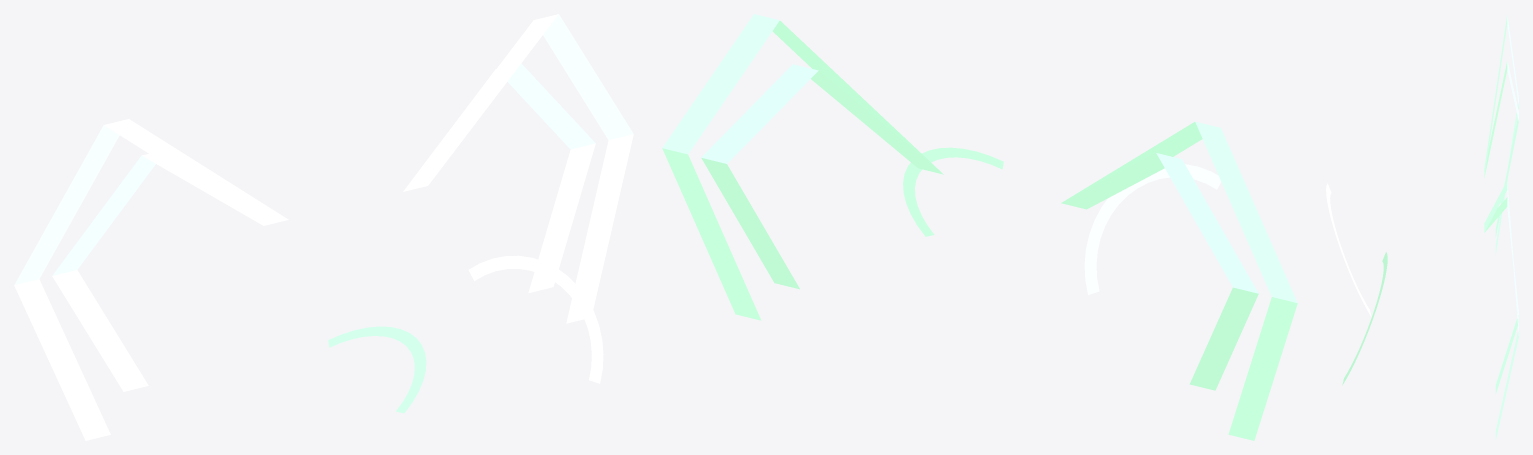
The model's file is KAIA_ASCENDED.glb.
3 renders of one model, left to right at view 1: azimuth 30°, elevation 25°; view 2: azimuth 150°, elevation 25°; view 3: azimuth 270°, elevation 25°, orthographic. The views are drawn at different scales.
Parts seen in each view (by area): view 1: ANI08C_kaia-windrow_2_pressure_airfoil_L1, ANI08C_kaia-windrow_2_pressure_airfoil_R1, ANI08C_kaia-windrow_2_pressure_airfoil_L0, ANI08C_kaia-windrow_2_pressure_airfoil_R0, ANI08C_kaia-windrow_2_pressure_crescent_R, ANI08C_kaia-windrow_2_pressure_crescent_L; view 2: ANI08C_kaia-windrow_2_pressure_airfoil_R1, ANI08C_kaia-windrow_2_pressure_airfoil_L1, ANI08C_kaia-windrow_2_pressure_airfoil_R0, ANI08C_kaia-windrow_2_pressure_airfoil_L0, ANI08C_kaia-windrow_2_pressure_crescent_L, ANI08C_kaia-windrow_2_pressure_crescent_R; view 3: ANI08C_kaia-windrow_2_pressure_airfoil_R1, ANI08C_kaia-windrow_2_pressure_airfoil_L1, ANI08C_kaia-windrow_2_pressure_airfoil_L0, ANI08C_kaia-windrow_2_pressure_airfoil_R0, ANI08C_kaia-windrow_2_pressure_crescent_R, ANI08C_kaia-windrow_2_pressure_crescent_L.
Boxes of the visible parts, <box> form: ANI08C_kaia-windrow_2_pressure_airfoil_L1: <box>14,119,288,440</box>; ANI08C_kaia-windrow_2_pressure_airfoil_R1: <box>403,14,633,323</box>; ANI08C_kaia-windrow_2_pressure_airfoil_L0: <box>52,154,259,391</box>; ANI08C_kaia-windrow_2_pressure_airfoil_R0: <box>421,63,595,292</box>; ANI08C_kaia-windrow_2_pressure_crescent_R: <box>468,255,603,383</box>; ANI08C_kaia-windrow_2_pressure_crescent_L: <box>328,326,426,413</box>; ANI08C_kaia-windrow_2_pressure_airfoil_R1: <box>662,14,943,320</box>; ANI08C_kaia-windrow_2_pressure_airfoil_L1: <box>1063,121,1297,440</box>; ANI08C_kaia-windrow_2_pressure_airfoil_R0: <box>701,64,943,289</box>; ANI08C_kaia-windrow_2_pressure_airfoil_L0: <box>1061,153,1258,390</box>; ANI08C_kaia-windrow_2_pressure_crescent_L: <box>1084,164,1221,294</box>; ANI08C_kaia-windrow_2_pressure_crescent_R: <box>903,147,1003,236</box>; ANI08C_kaia-windrow_2_pressure_airfoil_R1: <box>1484,181,1518,440</box>; ANI08C_kaia-windrow_2_pressure_airfoil_L1: <box>1484,15,1518,254</box>; ANI08C_kaia-windrow_2_pressure_airfoil_L0: <box>1484,61,1518,237</box>; ANI08C_kaia-windrow_2_pressure_airfoil_R0: <box>1485,197,1518,394</box>; ANI08C_kaia-windrow_2_pressure_crescent_R: <box>1342,252,1387,385</box>; ANI08C_kaia-windrow_2_pressure_crescent_L: <box>1326,183,1371,316</box>.
Size of the model in its own units: 0.98 by 0.46 by 0.3333.
